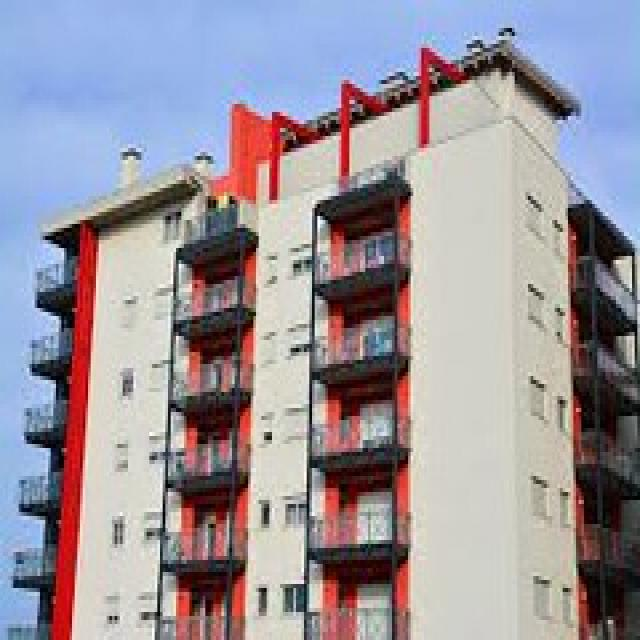Normal_building: (16, 48, 640, 640)
